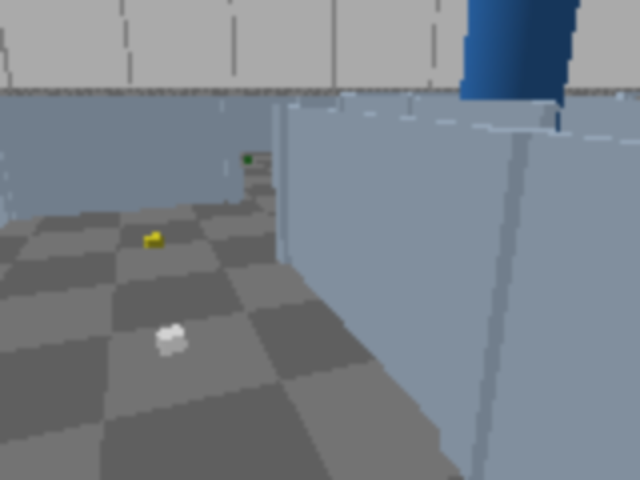puck: (155, 325, 187, 357)
